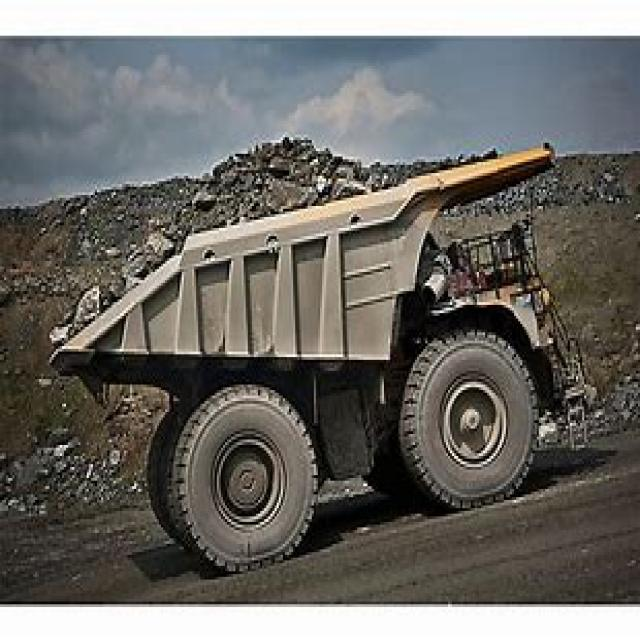dump_truck: (46, 121, 564, 566)
